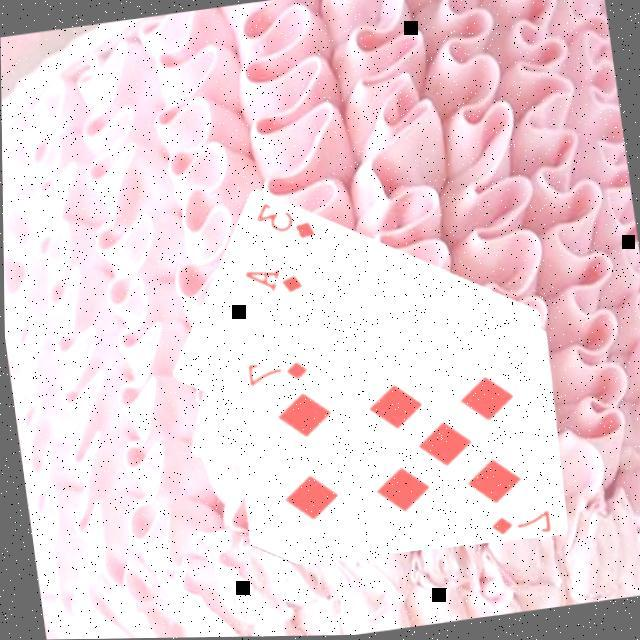3D: (248, 194, 317, 250)
7D: (241, 358, 309, 392), (482, 508, 550, 542)
AD: (238, 262, 304, 304)
